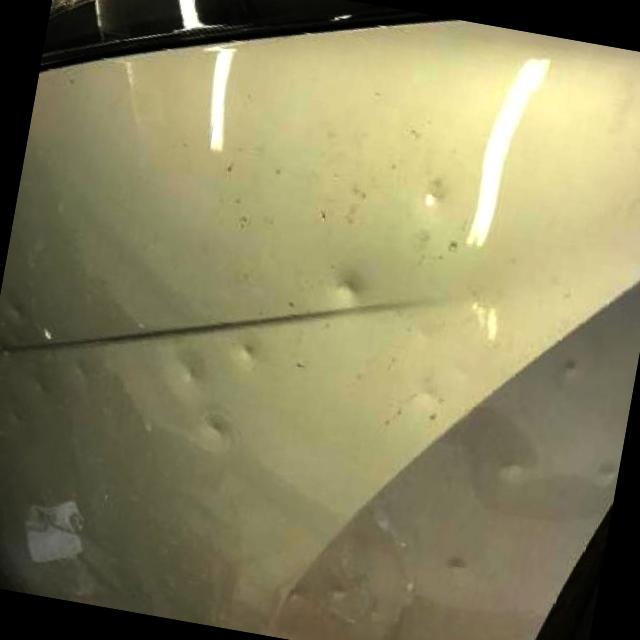dent: (468, 301, 502, 340), (172, 356, 204, 385), (332, 274, 362, 303), (498, 454, 527, 482), (200, 415, 231, 440), (422, 186, 444, 208), (28, 376, 48, 398), (236, 344, 256, 364), (4, 304, 23, 323), (9, 412, 22, 426)
